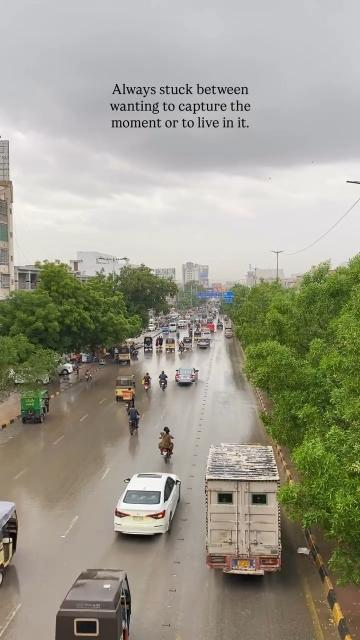Truck: (198, 439, 282, 583)
